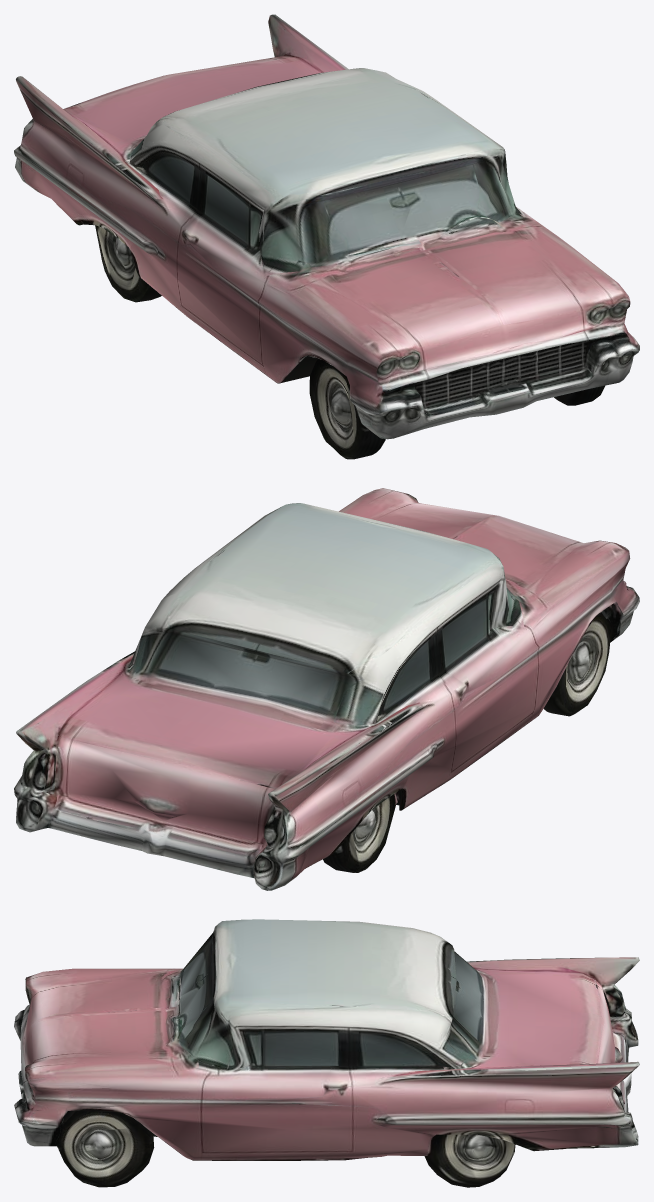
Rendered from eldorado_59.glb.
3 views of the same model, one above another, from view 1: azimuth 30°, elevation 25°; view 2: azimuth 150°, elevation 25°; view 3: azimuth 270°, elevation 25° (orthographic). The views are drawn at different scales.
Parts seen in each view (by area): view 1: textured; view 2: textured; view 3: textured.
Boxes of the visible parts, x1,y1,x2,y2 form: textured: [14, 14, 639, 459]; textured: [14, 488, 639, 890]; textured: [14, 919, 639, 1187].
Bounding box in the file's own units: 0.9006 × 0.6406 × 1.99.
Materials: 1 (1 with a texture image).
